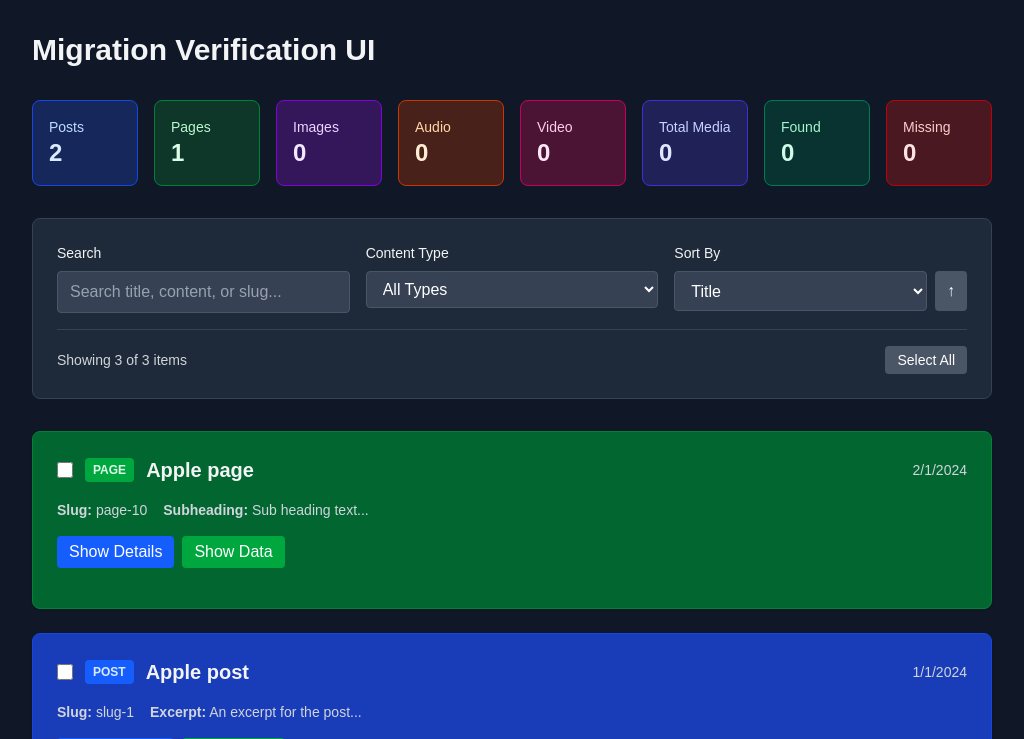
VerifyMigrationUI — search, filter and sort › filters by content type
Expected: the heading "Apple page" is shown, [146,459,254,481]
Step 1. Select "Pages Only" in the dropdown labelled "Content Type" → (512, 290), box [366,271,658,308]
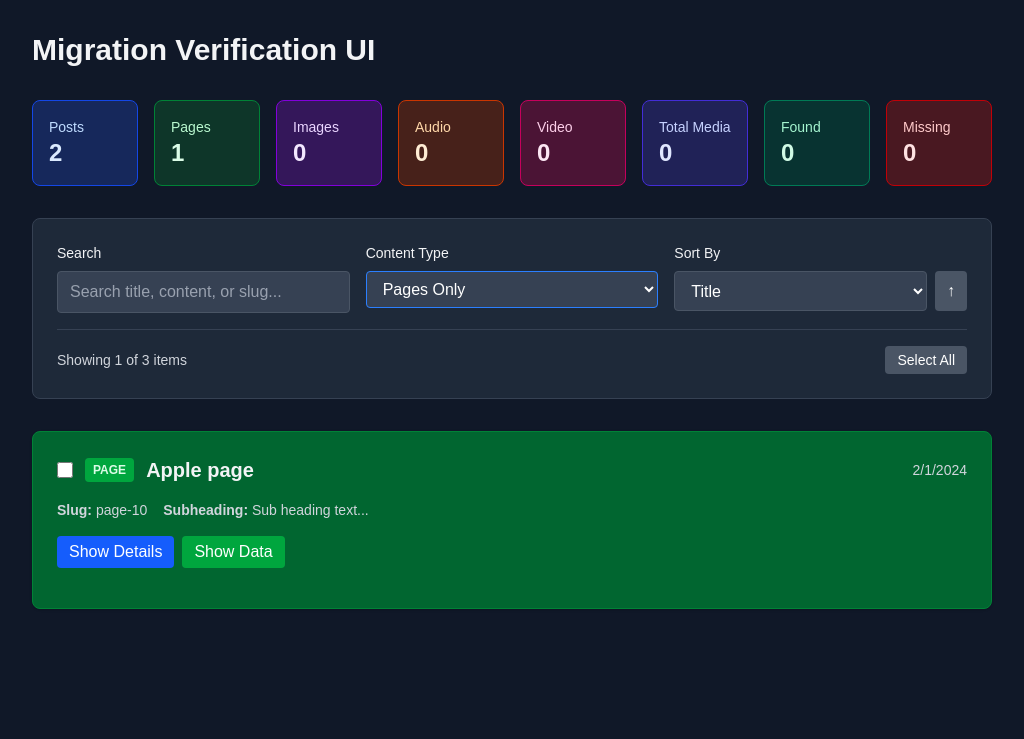
Expected: the heading "Apple page" is shown, [146,459,254,481]
Expected: the heading "Apple post" is gone
